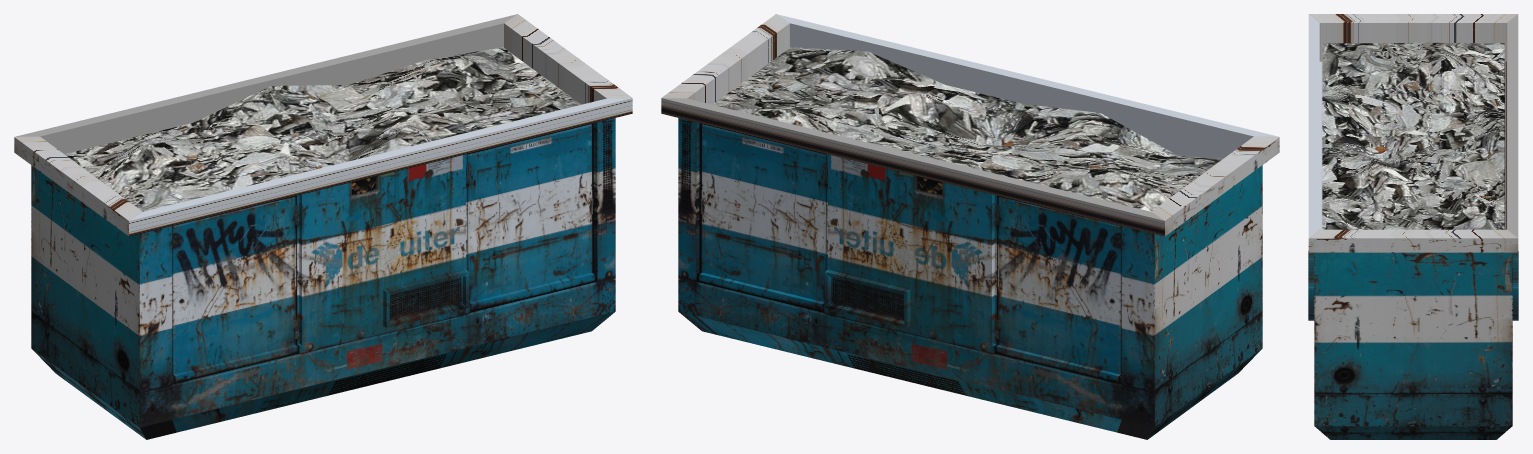
The model's file is Scrap 3.fbx.
3 renders of one model, left to right at view 1: azimuth 30°, elevation 25°; view 2: azimuth 150°, elevation 25°; view 3: azimuth 270°, elevation 25°, orthographic. The views are drawn at different scales.
Parts seen in each view (by area): view 1: Cube; view 2: Cube; view 3: Cube.
Boxes of the visible parts, x1,y1,x2,y2 form: Cube: (14, 14, 632, 439); Cube: (661, 14, 1279, 439); Cube: (1308, 14, 1518, 439).
Size of the model in its own units: 1064 by 474 by 422.
